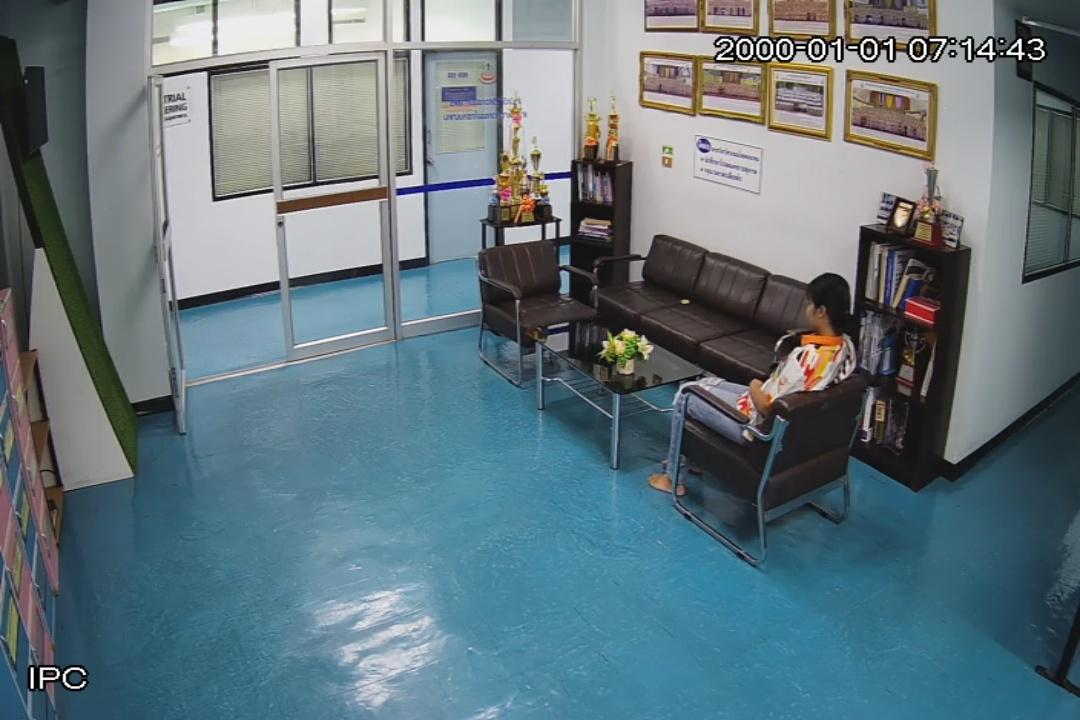normal: (662, 272, 859, 489)
